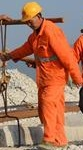boots: (37, 141, 54, 150), (0, 146, 10, 150)
gloves: (0, 51, 10, 60), (0, 53, 6, 66)
hard-hat: (20, 0, 42, 20)
ppe-suit: (0, 33, 29, 150)
